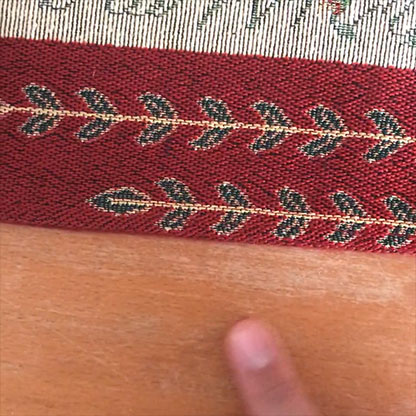fingertip: (208, 307, 296, 389)
